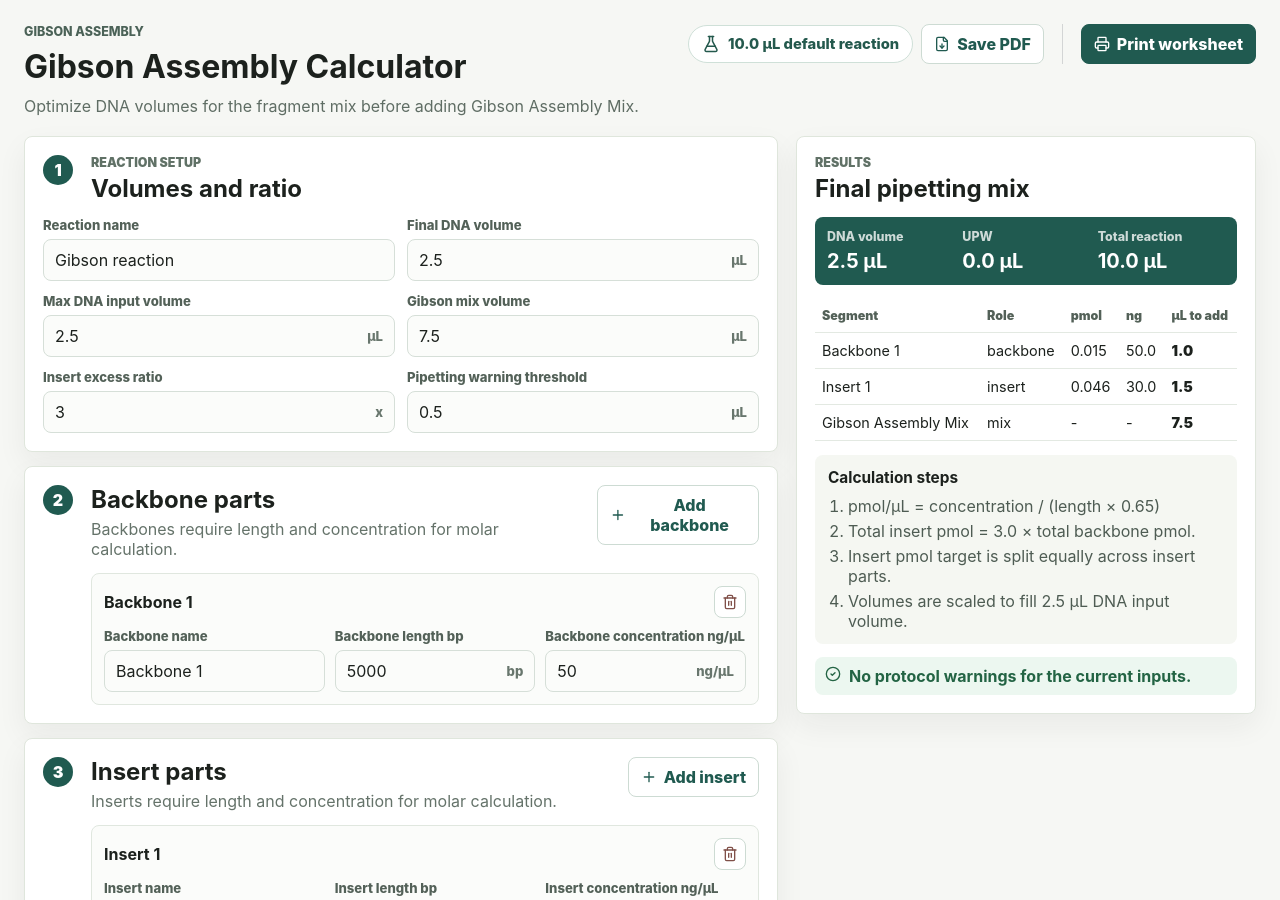
it: App › shows inline validation for missing required part values
Step 1. Clear the number field labelled "Backbone length bp" → (421, 671), box 336,651 -> 507,691
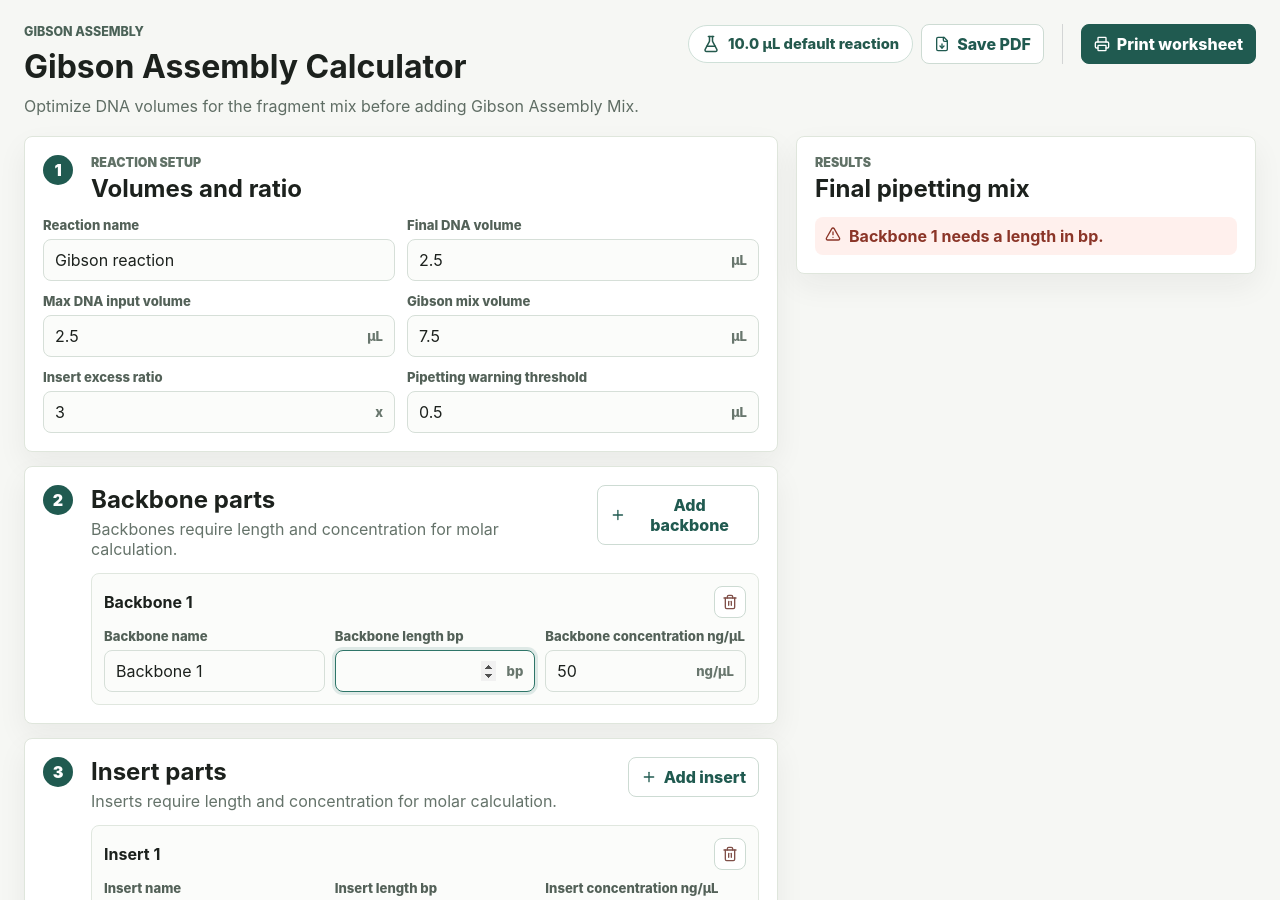
Expected: the text "Backbone 1 needs a length in bp." is shown, 815,217 -> 1237,255
